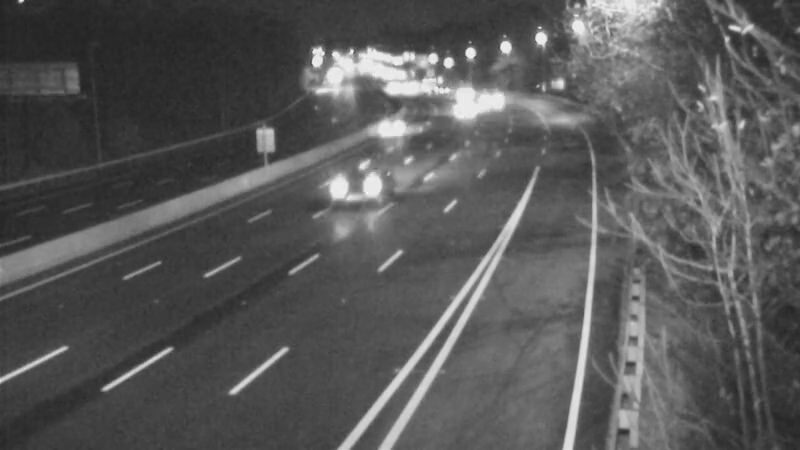vehicle: (318, 149, 398, 229), (431, 65, 481, 115), (462, 78, 512, 128), (436, 85, 486, 135), (369, 85, 419, 135)
